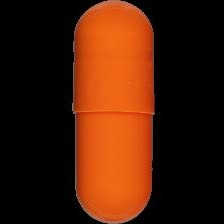53808-0311: (0, 0, 224, 224)
